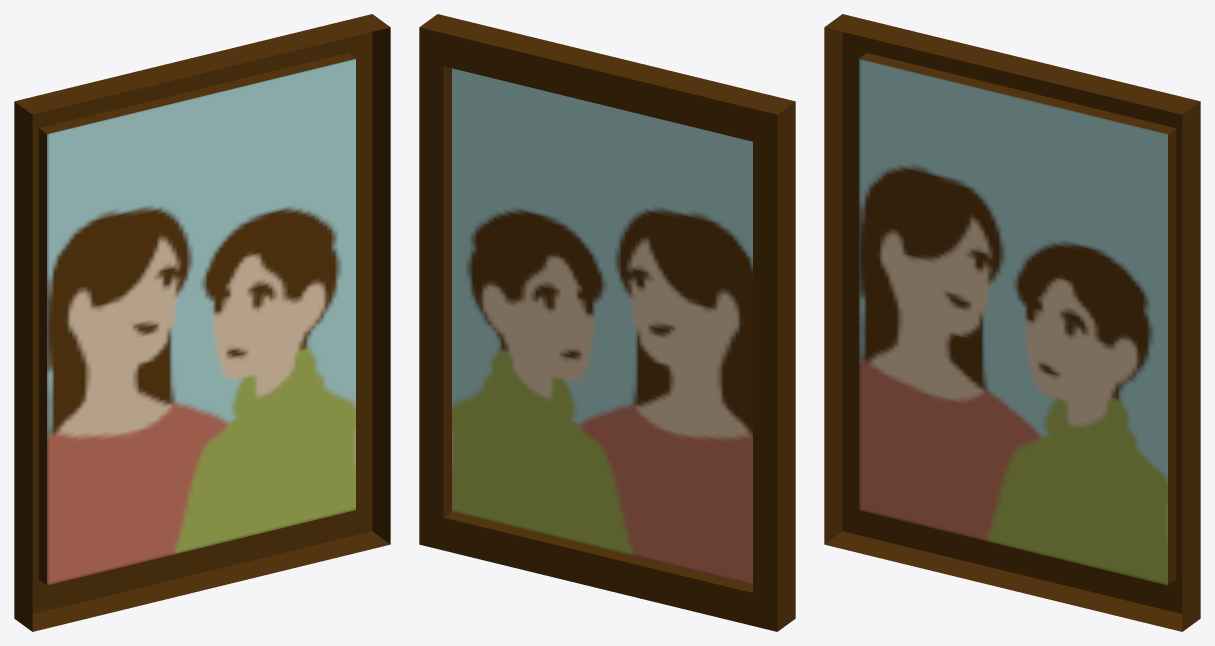
File: interactible_portrait_mom.fbx
3 views of the same model, side by side, from view 1: azimuth 30°, elevation 25°; view 2: azimuth 150°, elevation 25°; view 3: azimuth 330°, elevation 25° (orthographic).
Parts seen in each view (by area): view 1: interactible_portrait_mom; view 2: interactible_portrait_mom; view 3: interactible_portrait_mom.
Part boxes in pixels (x1=…): interactible_portrait_mom: x1=14, y1=14, x2=390, y2=631; interactible_portrait_mom: x1=419, y1=14, x2=795, y2=631; interactible_portrait_mom: x1=824, y1=14, x2=1200, y2=631.
Bounding box in the file's own units: 0.442 × 0.61 × 0.0391.
